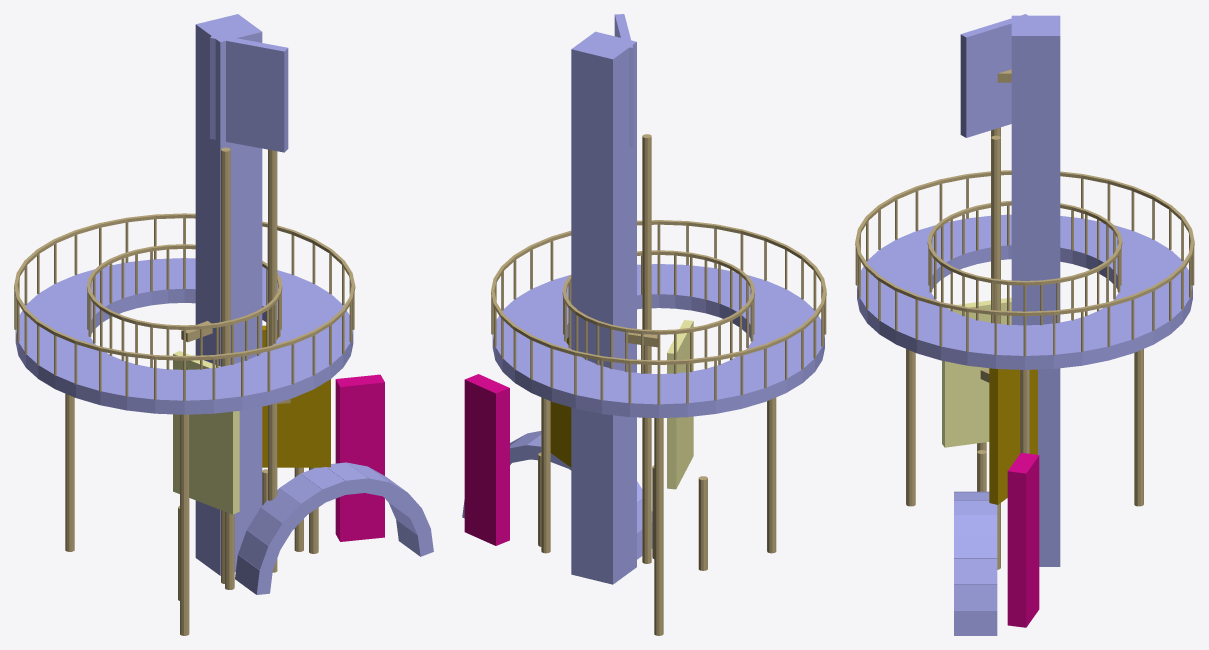
The model's file is folie_tag_067.glb.
3 renders of one model, left to right at view 1: azimuth 30°, elevation 25°; view 2: azimuth 150°, elevation 25°; view 3: azimuth 270°, elevation 25°, orthographic.
Visible parts, largest first — view 1: folie_tag_067_00_ring, folie_tag_067_line, folie_tag_067_core, folie_tag_067_01_arc, folie_tag_067_06_panel, folie_tag_067_02_fin, folie_tag_067_03_panel, folie_tag_067_05_panel; view 2: folie_tag_067_core, folie_tag_067_00_ring, folie_tag_067_line, folie_tag_067_02_fin, folie_tag_067_03_panel, folie_tag_067_01_arc, folie_tag_067_05_panel, folie_tag_067_06_panel; view 3: folie_tag_067_00_ring, folie_tag_067_line, folie_tag_067_core, folie_tag_067_01_arc, folie_tag_067_02_fin, folie_tag_067_06_panel, folie_tag_067_03_panel, folie_tag_067_05_panel.
Part boxes in pixels (left/top/right/bottom): folie_tag_067_00_ring: left=15, top=258, right=353, bottom=414; folie_tag_067_line: left=14, top=147, right=355, bottom=635; folie_tag_067_core: left=195, top=14, right=262, bottom=575; folie_tag_067_01_arc: left=235, top=462, right=433, bottom=594; folie_tag_067_06_panel: left=210, top=34, right=288, bottom=152; folie_tag_067_02_fin: left=335, top=374, right=384, bottom=541; folie_tag_067_03_panel: left=173, top=351, right=239, bottom=514; folie_tag_067_05_panel: left=262, top=325, right=330, bottom=467; folie_tag_067_core: left=571, top=31, right=636, bottom=584; folie_tag_067_00_ring: left=492, top=264, right=824, bottom=418; folie_tag_067_line: left=491, top=134, right=826, bottom=635; folie_tag_067_02_fin: left=464, top=374, right=509, bottom=545; folie_tag_067_03_panel: left=667, top=320, right=693, bottom=489; folie_tag_067_01_arc: left=462, top=431, right=652, bottom=559; folie_tag_067_05_panel: left=550, top=337, right=571, bottom=467; folie_tag_067_06_panel: left=614, top=14, right=633, bottom=147; folie_tag_067_00_ring: left=857, top=214, right=1192, bottom=369; folie_tag_067_line: left=855, top=69, right=1194, bottom=569; folie_tag_067_core: left=1011, top=15, right=1060, bottom=566; folie_tag_067_01_arc: left=954, top=491, right=997, bottom=635; folie_tag_067_02_fin: left=1007, top=452, right=1039, bottom=627; folie_tag_067_06_panel: left=960, top=14, right=1030, bottom=137; folie_tag_067_03_panel: left=942, top=297, right=1011, bottom=447; folie_tag_067_05_panel: left=989, top=368, right=1037, bottom=504.
Bounding box in the file's own units: 9.39 × 13.3 × 7.68.
